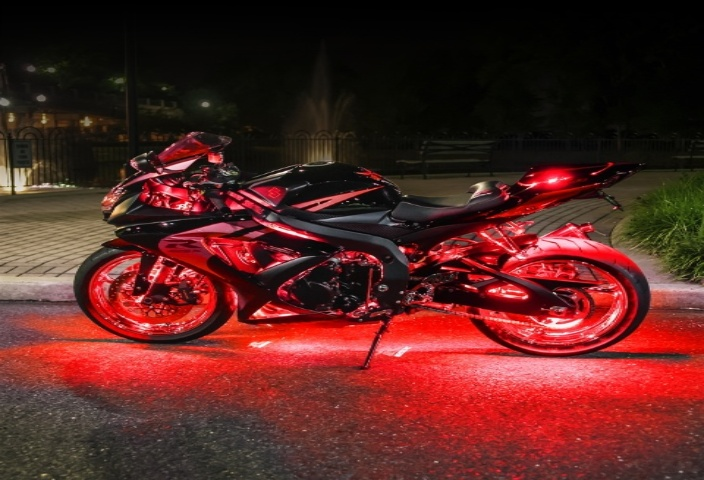motorcycle: (73, 111, 652, 369)
